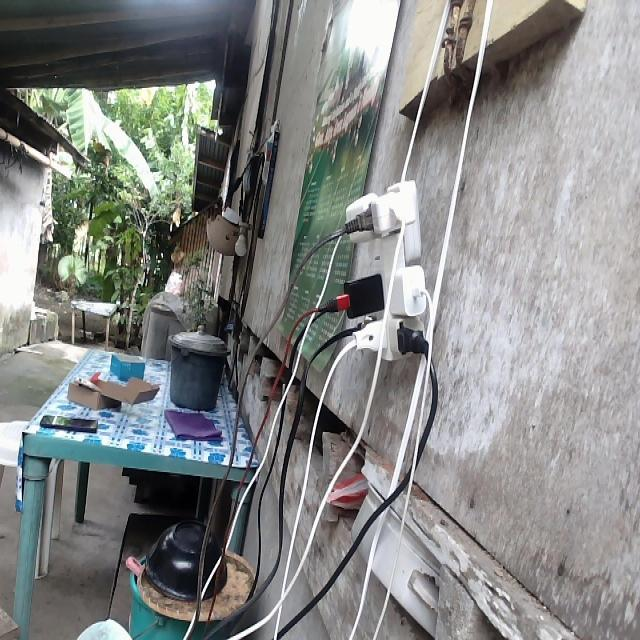-: (329, 176, 431, 367)
